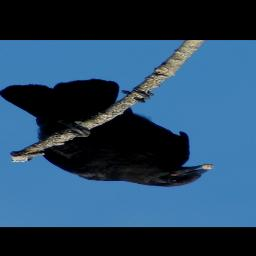Crow: (0, 78, 216, 188)
